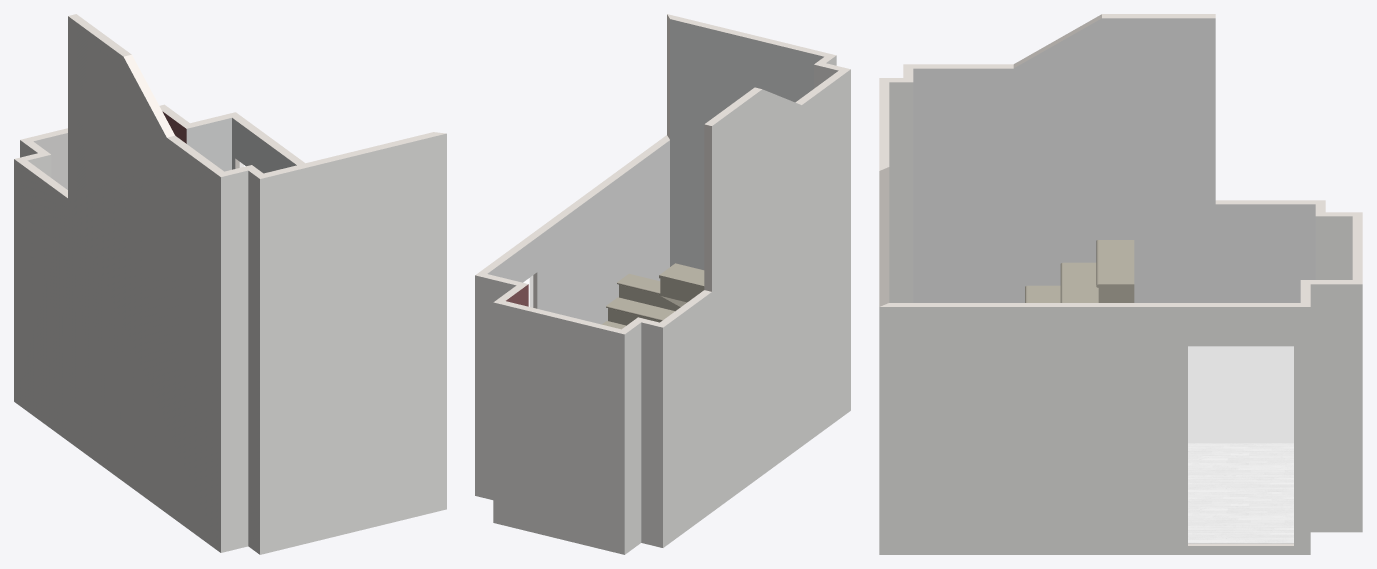
The model's file is StairDownNorth.glb.
3 renders of one model, left to right at view 1: azimuth 30°, elevation 25°; view 2: azimuth 150°, elevation 25°; view 3: azimuth 270°, elevation 25°, orthographic. The views are drawn at different scales.
Visible parts, largest first — view 1: wall_5, wall_6, wall_8, wall_4, wall_21, wall_16, wall_10, wall_28, wall_23, wall_17; view 2: wall_5, wall_9, wall_16, wall_22, wall_2, wall_0, wall_1, wall_21, stairs70, wall_17, stairs30, wall_23 (+1 smaller); view 3: wall_20, wall_3, door_0, door_2, wall_7, floor_Other, wall_18, stairs30, wall_12, wall_21, wall_17, joint_5 (+2 smaller).
Boxes of the visible parts, x1=… form: wall_5: x1=14, y1=16, x2=220, y2=552; wall_6: x1=260, y1=133, x2=446, y2=554; wall_8: x1=221, y1=170, x2=248, y2=552; wall_4: x1=248, y1=171, x2=259, y2=554; wall_21: x1=14, y1=14, x2=224, y2=197; wall_16: x1=232, y1=118, x2=296, y2=173; wall_10: x1=186, y1=118, x2=231, y2=171; wall_28: x1=33, y1=133, x2=67, y2=189; wall_23: x1=260, y1=132, x2=445, y2=178; wall_17: x1=232, y1=112, x2=304, y2=168; wall_5: x1=663, y1=69, x2=850, y2=547; wall_9: x1=493, y1=302, x2=624, y2=554; wall_16: x1=487, y1=140, x2=669, y2=324; wall_22: x1=670, y1=19, x2=823, y2=269; wall_2: x1=641, y1=322, x2=662, y2=547; wall_0: x1=475, y1=275, x2=516, y2=499; wall_1: x1=624, y1=322, x2=641, y2=554; wall_21: x1=660, y1=69, x2=850, y2=327; stairs70: x1=602, y1=273, x2=680, y2=329; wall_17: x1=475, y1=135, x2=669, y2=308; stairs30: x1=659, y1=263, x2=704, y2=306; wall_23: x1=667, y1=14, x2=835, y2=56; wall_20: x1=913, y1=18, x2=1315, y2=442; wall_3: x1=879, y1=307, x2=1310, y2=554; door_0: x1=1188, y1=346, x2=1293, y2=543; door_2: x1=1188, y1=346, x2=1293, y2=543; wall_7: x1=1310, y1=284, x2=1362, y2=532; floor_Other: x1=1188, y1=443, x2=1293, y2=543; wall_18: x1=889, y1=82, x2=913, y2=302; stairs30: x1=1025, y1=240, x2=1134, y2=302; wall_12: x1=1315, y1=216, x2=1352, y2=279; wall_21: x1=904, y1=14, x2=1324, y2=204; wall_17: x1=880, y1=303, x2=1309, y2=545; joint_5: x1=879, y1=167, x2=889, y2=306.
Bounding box in the file's own units: 2.55 × 4.83 × 4.88.
